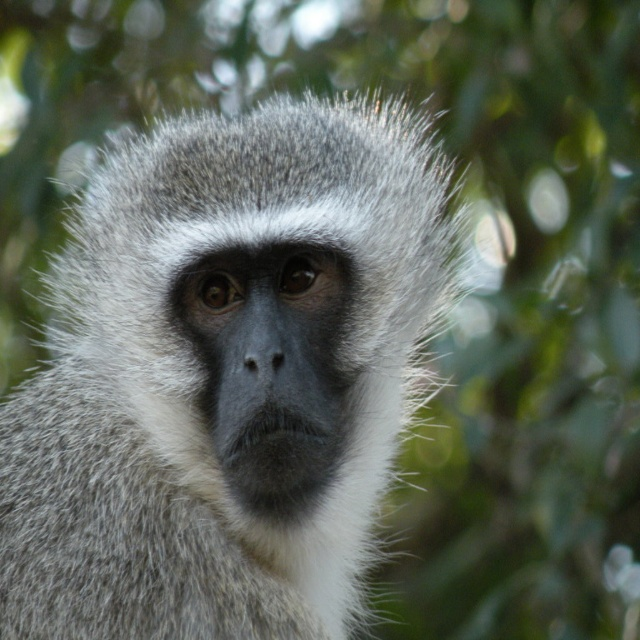Monkey: (0, 93, 482, 639)
